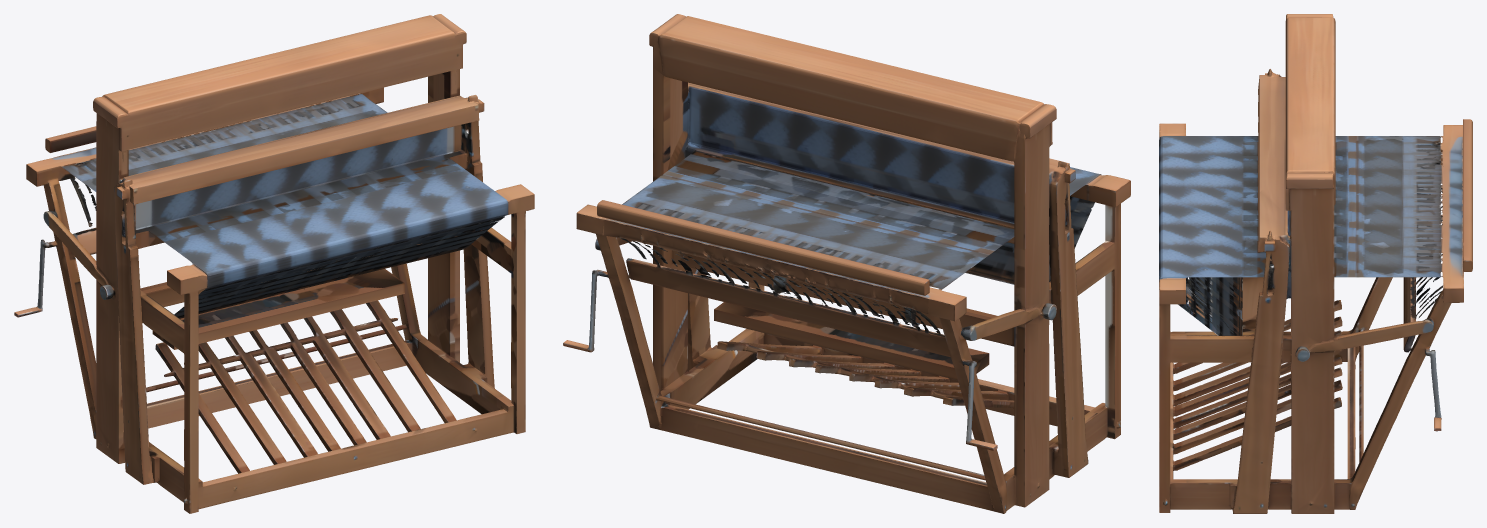
File: Loom3.fbx
3 views of the same model, side by side, from view 1: azimuth 30°, elevation 25°; view 2: azimuth 150°, elevation 25°; view 3: azimuth 270°, elevation 25° (orthographic). The views are drawn at different scales.
Visible parts, largest first — view 1: model; view 2: model; view 3: model.
Boxes of the visible parts, <box> form: model: <box>14,14,534,513</box>; model: <box>563,14,1130,513</box>; model: <box>1159,14,1472,513</box>.
Bounding box in the file's own units: 190 × 162 × 136.
